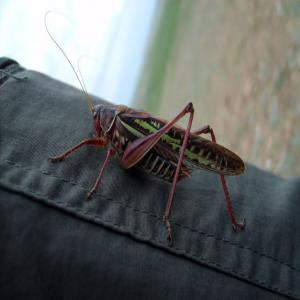locust: (57, 49, 253, 235)
